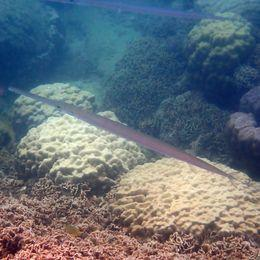Fistularia commersonii: (4, 68, 247, 185)
